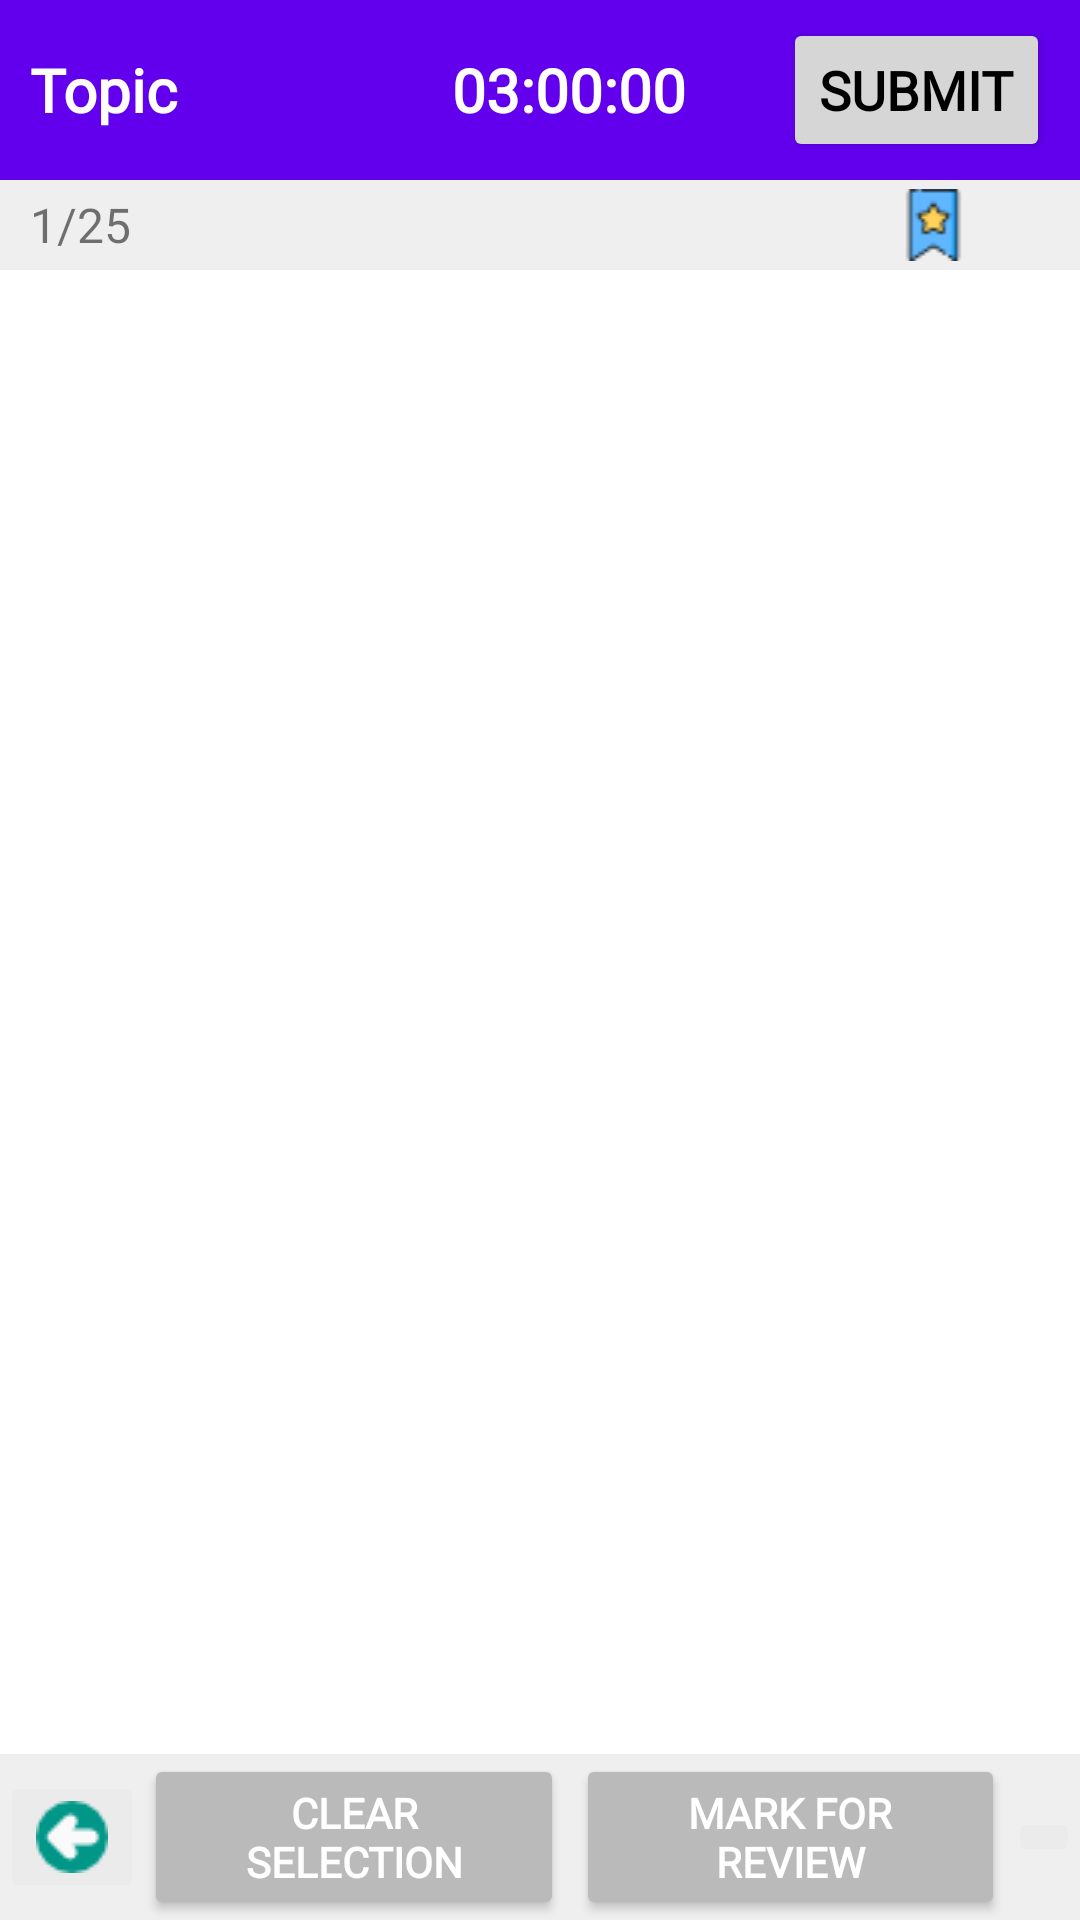

Icons on this 1080px x 1920px Android screen, each with its box as (x1, y1, x2, y2):
leftarrow: (36, 1801, 108, 1873)
